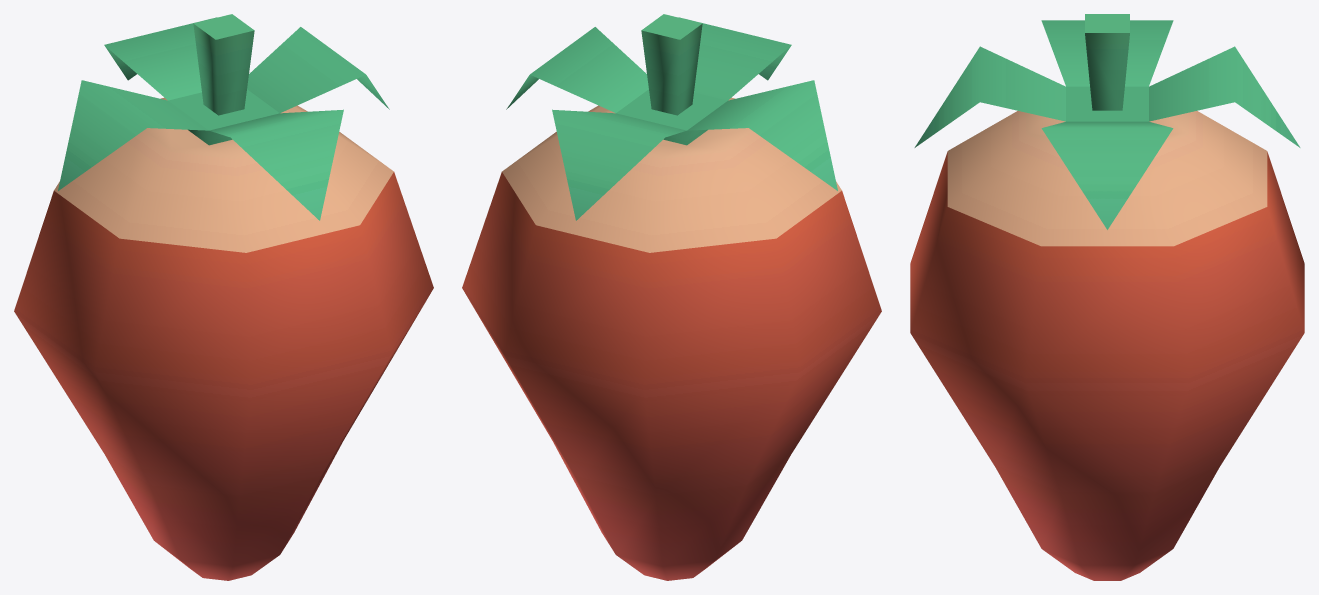
The model's file is strawberry.glb.
3 renders of one model, left to right at view 1: azimuth 30°, elevation 25°; view 2: azimuth 150°, elevation 25°; view 3: azimuth 270°, elevation 25°, orthographic.
Visible parts, largest first — view 1: strawberry; view 2: strawberry; view 3: strawberry.
Boxes of the visible parts, <box> form: strawberry: <box>14,14,433,580</box>; strawberry: <box>462,14,881,580</box>; strawberry: <box>910,14,1304,580</box>.
Size of the model in its own units: 0.1197 by 0.182 by 0.1197.
Materials: 1 (1 with a texture image).
